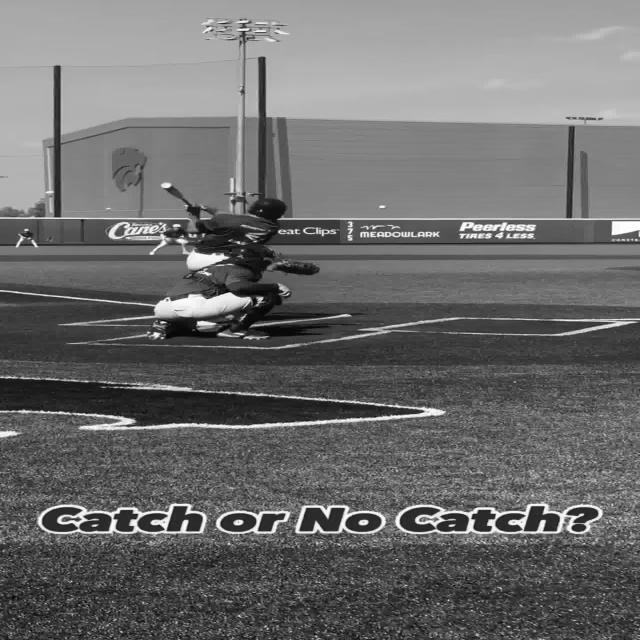baseball: (376, 204, 386, 210)
baseball_glove: (266, 258, 320, 275)
bat: (159, 182, 193, 208)
shoe: (216, 326, 270, 339), (145, 319, 171, 340)
